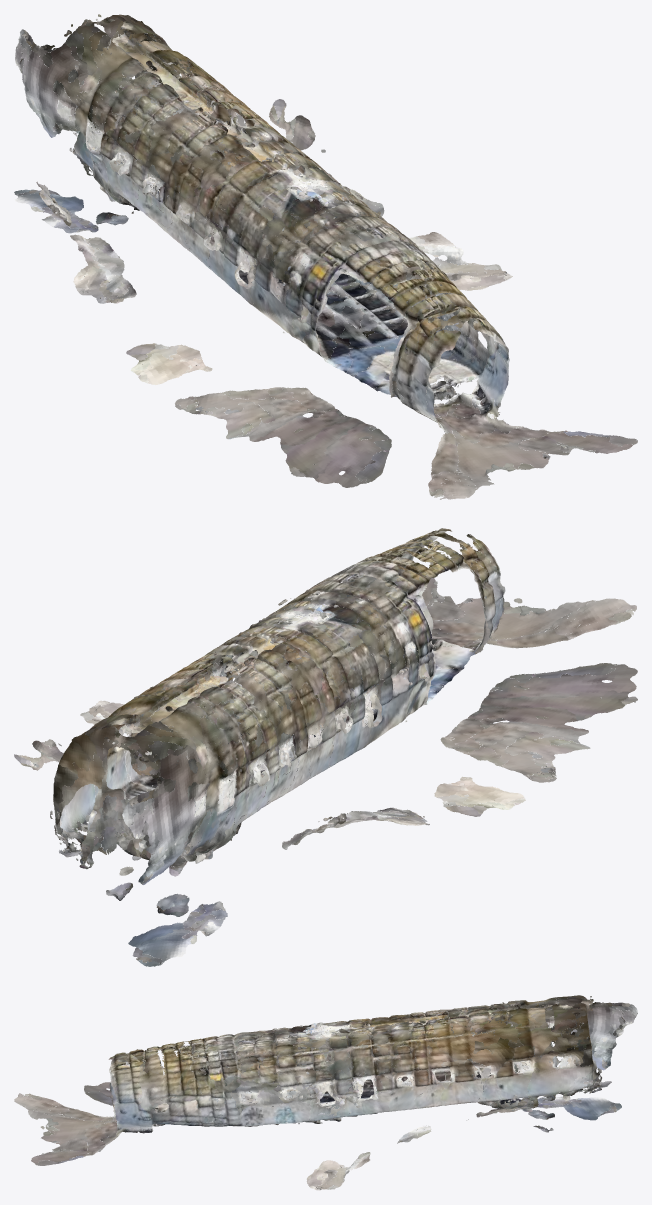
The model's file is dc3_wreck._interior..glb.
3 views of the same model, one above another, from view 1: azimuth 30°, elevation 25°; view 2: azimuth 150°, elevation 25°; view 3: azimuth 270°, elevation 25° (orthographic). The views are drawn at different scales.
Parts seen in each view (by area): view 1: Object_8, Object_4, Object_7, Object_3, Object_6, Object_5, Object_2, Object_9; view 2: Object_8, Object_4, Object_7, Object_3, Object_6, Object_2, Object_5, Object_9; view 3: Object_5, Object_6, Object_7, Object_3, Object_4, Object_8, Object_2, Object_9.
Part boxes in pixels (bbox=[...]): Object_8: bbox=[88, 30, 564, 489]; Object_4: bbox=[14, 14, 632, 499]; Object_7: bbox=[15, 38, 508, 433]; Object_3: bbox=[16, 15, 637, 473]; Object_6: bbox=[139, 83, 594, 452]; Object_5: bbox=[46, 33, 608, 437]; Object_2: bbox=[15, 14, 637, 499]; Object_9: bbox=[79, 76, 469, 485]; Object_8: bbox=[57, 546, 637, 866]; Object_4: bbox=[53, 539, 636, 966]; Object_7: bbox=[53, 528, 500, 919]; Object_3: bbox=[32, 534, 589, 936]; Object_6: bbox=[21, 530, 537, 853]; Object_2: bbox=[14, 528, 637, 963]; Object_5: bbox=[21, 533, 466, 827]; Object_9: bbox=[116, 572, 597, 849]; Object_5: bbox=[58, 1007, 600, 1190]; Object_6: bbox=[42, 1006, 545, 1154]; Object_7: bbox=[108, 998, 635, 1126]; Object_3: bbox=[34, 995, 637, 1189]; Object_4: bbox=[14, 995, 621, 1163]; Object_8: bbox=[23, 996, 595, 1155]; Object_2: bbox=[21, 996, 637, 1189]; Object_9: bbox=[45, 1015, 540, 1115].
Size of the model in its own units: 7.72 by 3.5 by 15.76.
1 material, 1 textured.
